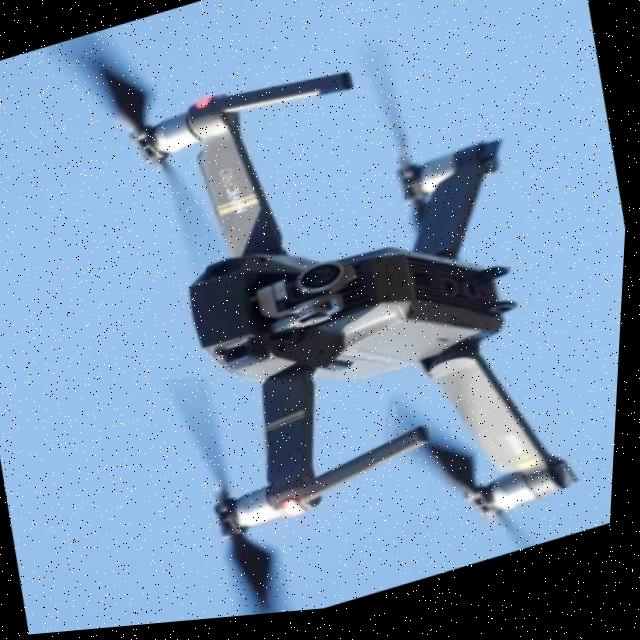drones: (0, 0, 640, 638)
